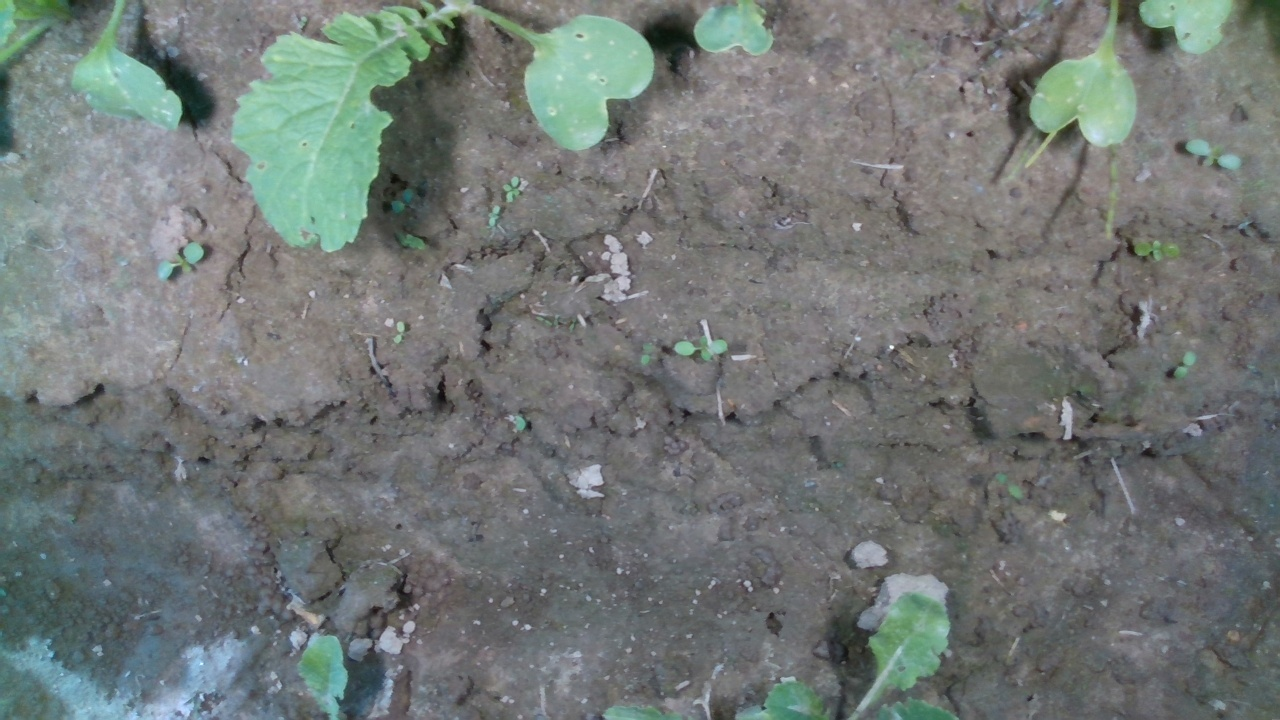weed: (155, 238, 206, 282)
